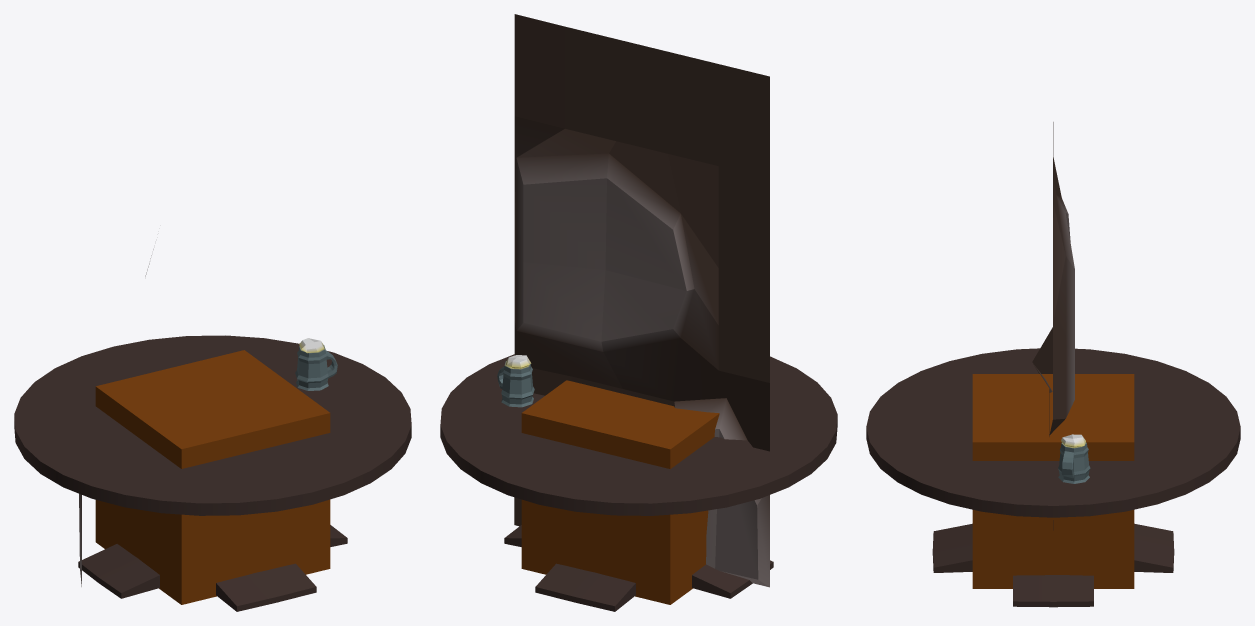
Rendered from assets.glb.
The picture shows the model from 3 angles, left to right: view 1: azimuth 30°, elevation 25°; view 2: azimuth 150°, elevation 25°; view 3: azimuth 270°, elevation 25°; orthographic projection. The views are drawn at different scales.
Visible parts, largest first — view 1: Table, Cube, BeerTable; view 2: Wall, Table, Cube, BeerTable; view 3: Table, Cube, Wall, BeerTable.
Boxes of the visible parts, left/top/right/bottom form: Table: left=14, top=335, right=411, bottom=611; Cube: left=95, top=350, right=330, bottom=604; BeerTable: left=295, top=338, right=337, bottom=390; Wall: left=514, top=14, right=769, bottom=587; Table: left=440, top=354, right=837, bottom=611; Cube: left=521, top=380, right=719, bottom=604; BeerTable: left=497, top=355, right=534, bottom=407; Table: left=866, top=348, right=1240, bottom=607; Cube: left=972, top=374, right=1134, bottom=588; Wall: left=1032, top=122, right=1074, bottom=530; BeerTable: left=1058, top=434, right=1090, bottom=483.
Size of what is drawn, in the model's own units: 1.41 by 2.01 by 1.41.
